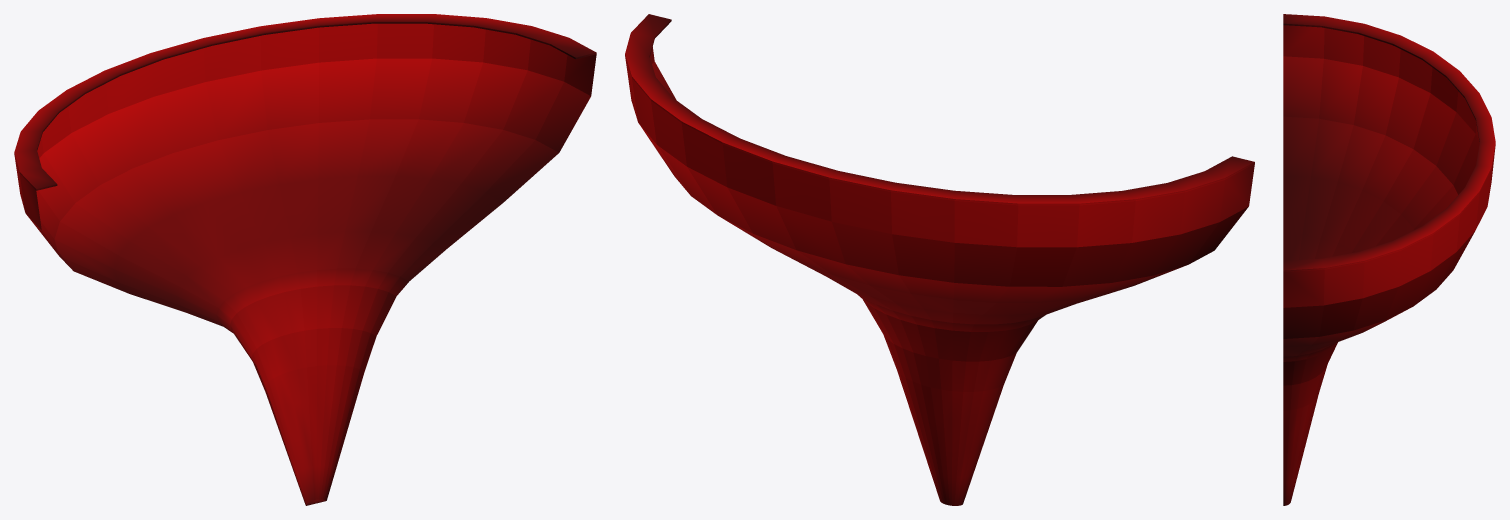
The model's file is Balcony_1_export.obj.
3 views of the same model, side by side, from view 1: azimuth 30°, elevation 25°; view 2: azimuth 150°, elevation 25°; view 3: azimuth 270°, elevation 25° (orthographic). The views are drawn at different scales.
Parts seen in each view (by area): view 1: Balcony_1; view 2: Balcony_1; view 3: Balcony_1.
Part boxes in pixels (x1,y1,x2,y2): Balcony_1: (14,14,596,505); Balcony_1: (625,14,1254,505); Balcony_1: (1283,14,1495,505).
Size of the model in its own units: 9 by 5.87 by 3.15.
